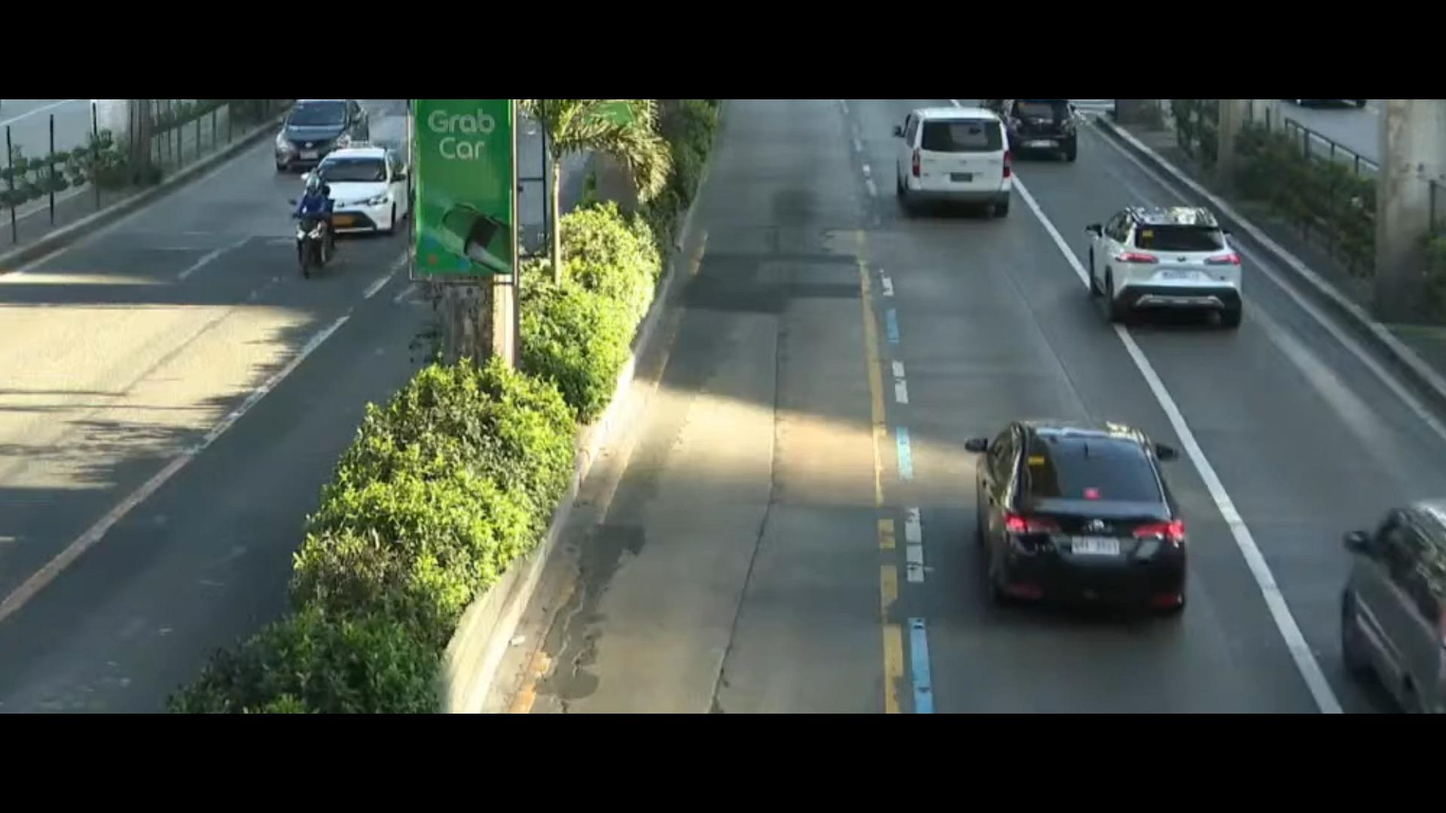Motorcycle: (287, 164, 345, 280)
Sedan: (908, 390, 1204, 654), (1055, 183, 1251, 346), (293, 134, 422, 246), (273, 105, 370, 170)
Van: (1300, 461, 1446, 700), (898, 96, 1028, 232)
